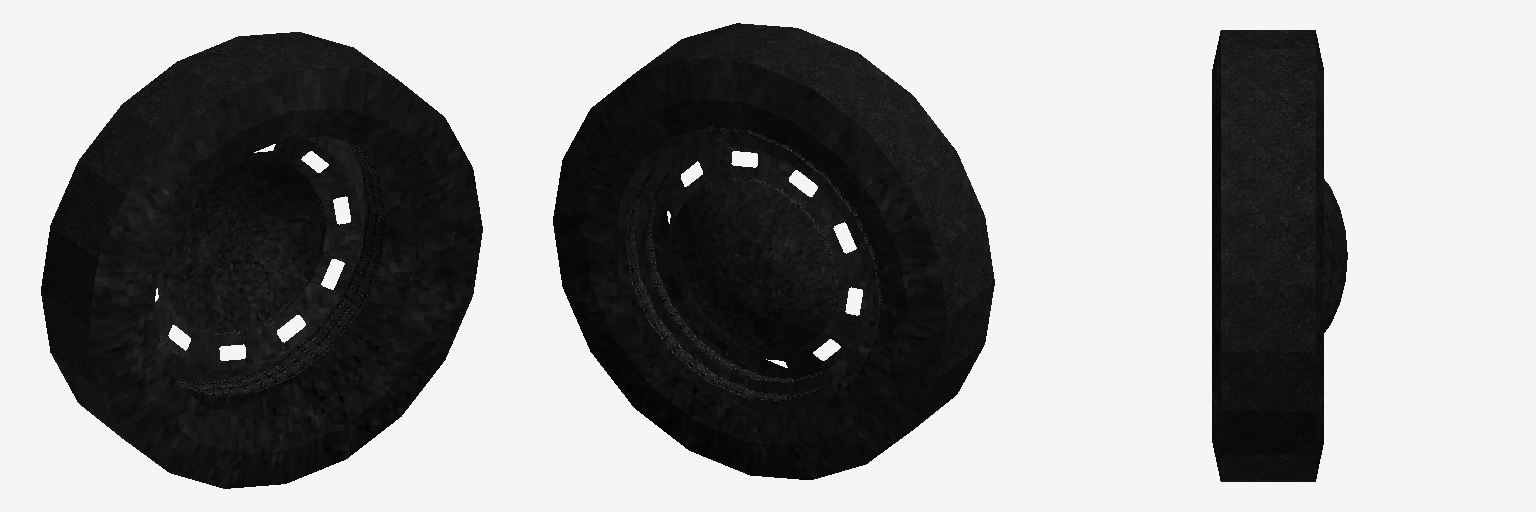
3 views of the same model, side by side, from view 1: azimuth 30°, elevation 25°; view 2: azimuth 150°, elevation 25°; view 3: azimuth 270°, elevation 25° (orthographic).
Parts seen in each view (by area): view 1: wheel; view 2: wheel; view 3: wheel.
Part boxes in pixels (x1,y1,x2,y2): wheel: (41, 32, 482, 488); wheel: (553, 23, 994, 479); wheel: (1212, 30, 1347, 481).
Size of the model in its own units: 0.2609 by 0.2608 by 0.0776.
Materials: 1 (1 with a texture image).